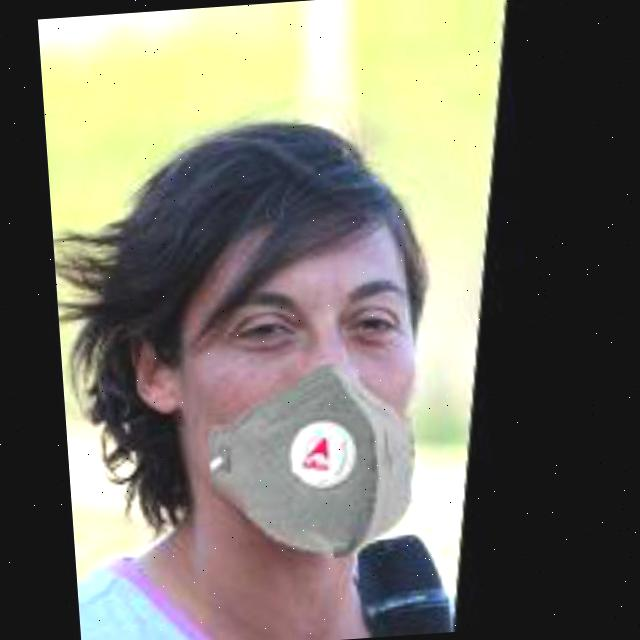suspicion: (123, 95, 494, 610)
